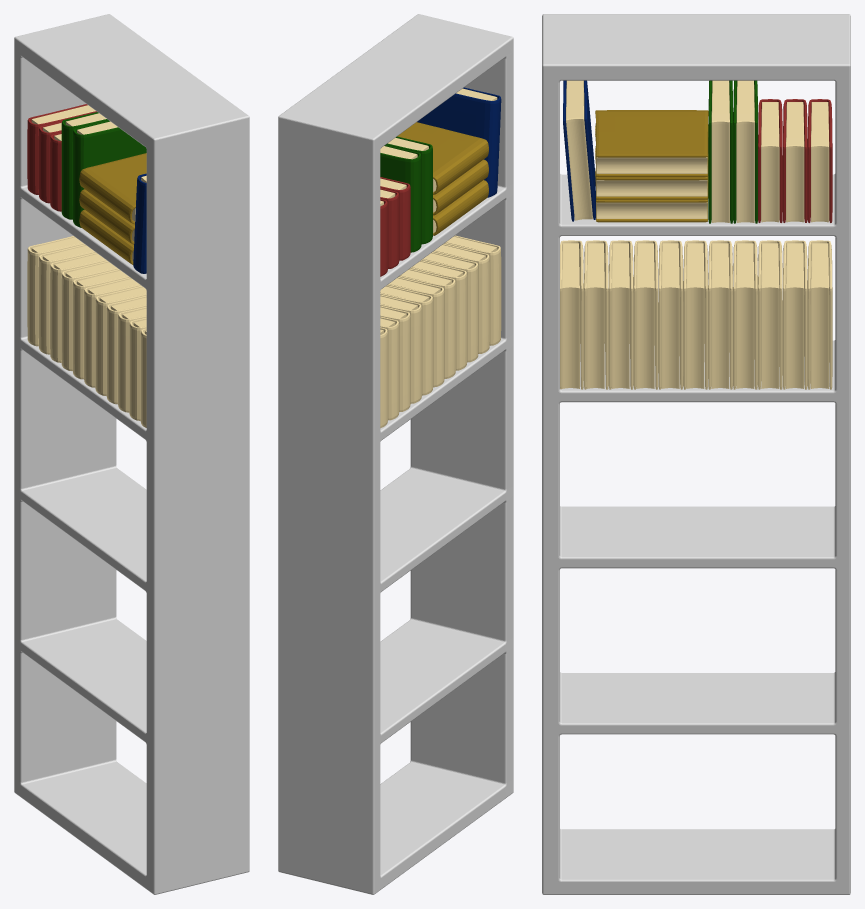
The model's file is book shelf.fbx.
The picture shows the model from 3 angles, left to right: view 1: azimuth 30°, elevation 25°; view 2: azimuth 150°, elevation 25°; view 3: azimuth 270°, elevation 25°; orthographic projection. The views are drawn at different scales.
Parts seen in each view (by area): view 1: Cube.013, Cube.008, Cube.026, Plane.004, Cube.014, Cube.027; view 2: Cube.013, Cube.008, Cube.026, Plane.004, Cube.027, Cube.014; view 3: Cube.013, Cube.008, Cube.026, Cube.014, Plane.004, Cube.027.
Part boxes in pixels (x1=…): Cube.013: x1=14, y1=14, x2=249, y2=894; Cube.008: x1=27, y1=236, x2=146, y2=427; Cube.026: x1=79, y1=153, x2=146, y2=264; Plane.004: x1=61, y1=112, x2=146, y2=227; Cube.014: x1=27, y1=104, x2=96, y2=211; Cube.027: x1=133, y1=173, x2=146, y2=273; Cube.013: x1=278, y1=14, x2=513, y2=894; Cube.008: x1=380, y1=235, x2=501, y2=428; Cube.026: x1=397, y1=122, x2=488, y2=235; Plane.004: x1=380, y1=136, x2=432, y2=252; Cube.027: x1=417, y1=87, x2=501, y2=197; Cube.014: x1=380, y1=177, x2=410, y2=276; Cube.013: x1=542, y1=14, x2=850, y2=894; Cube.008: x1=560, y1=240, x2=832, y2=389; Cube.026: x1=595, y1=110, x2=708, y2=222; Cube.014: x1=758, y1=99, x2=832, y2=222; Plane.004: x1=708, y1=80, x2=757, y2=223; Cube.027: x1=563, y1=80, x2=595, y2=221.
Bounding box in the file's own units: 259 × 1948 × 656.
